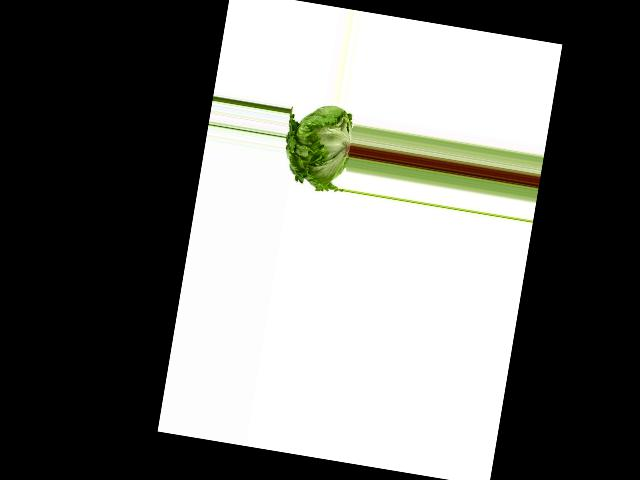lettuce: (278, 96, 357, 198)
